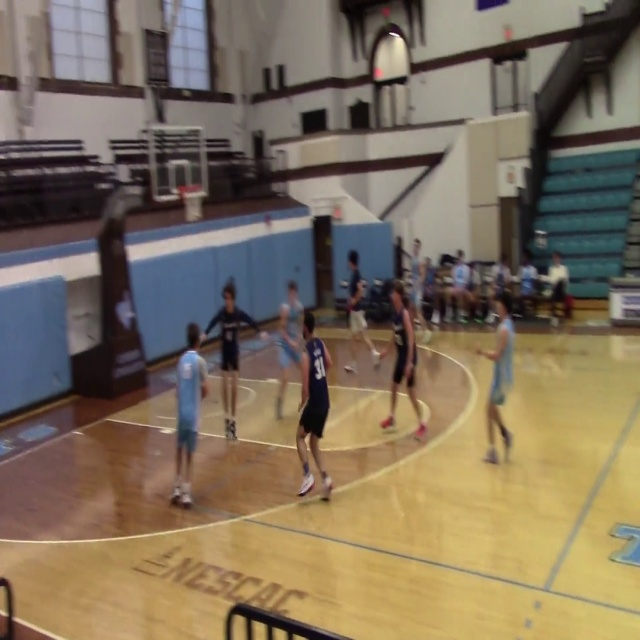Basketball: (259, 331, 269, 341)
